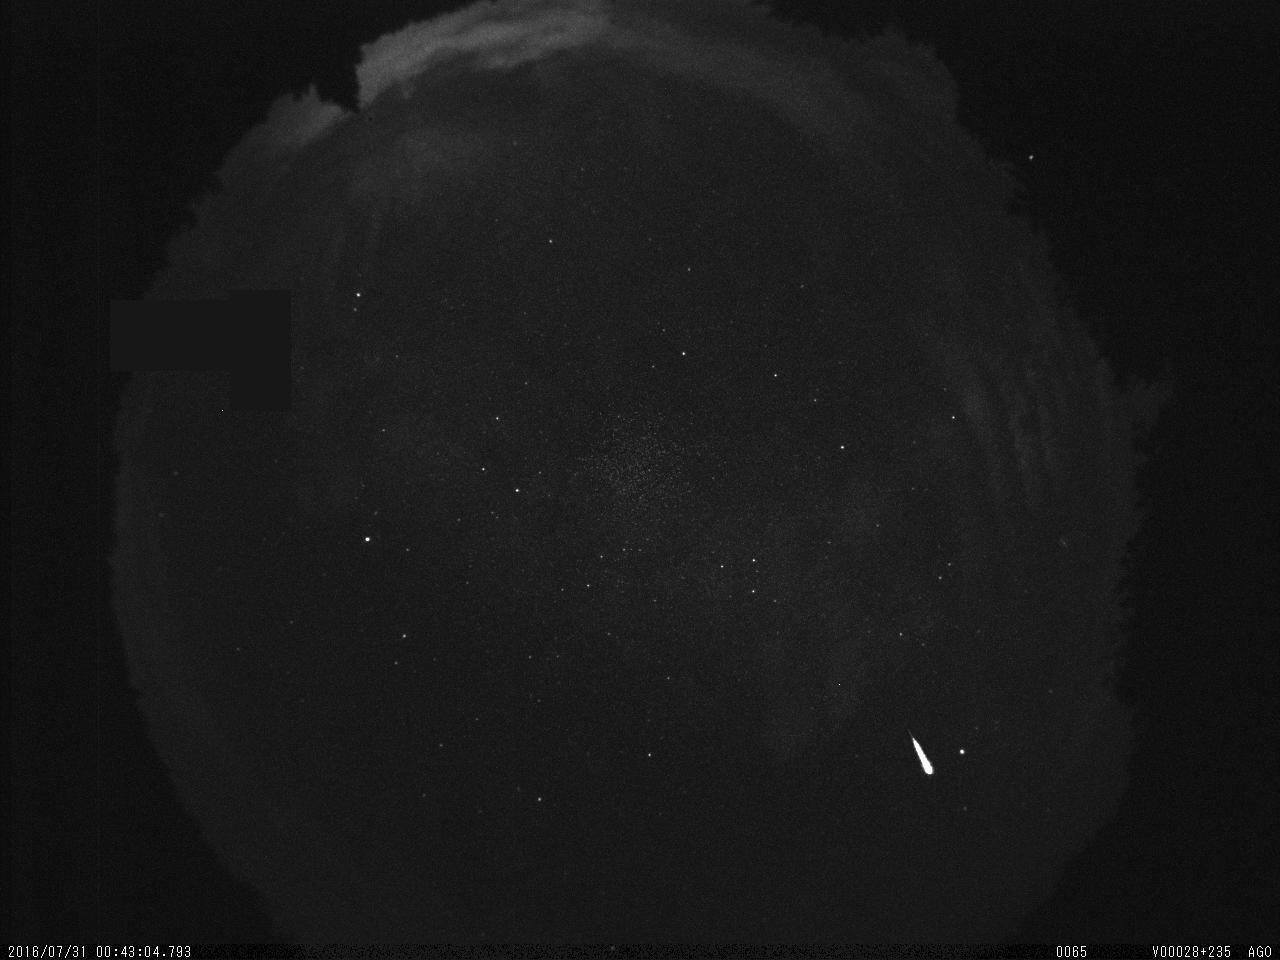meteor: (894, 715, 947, 790)
